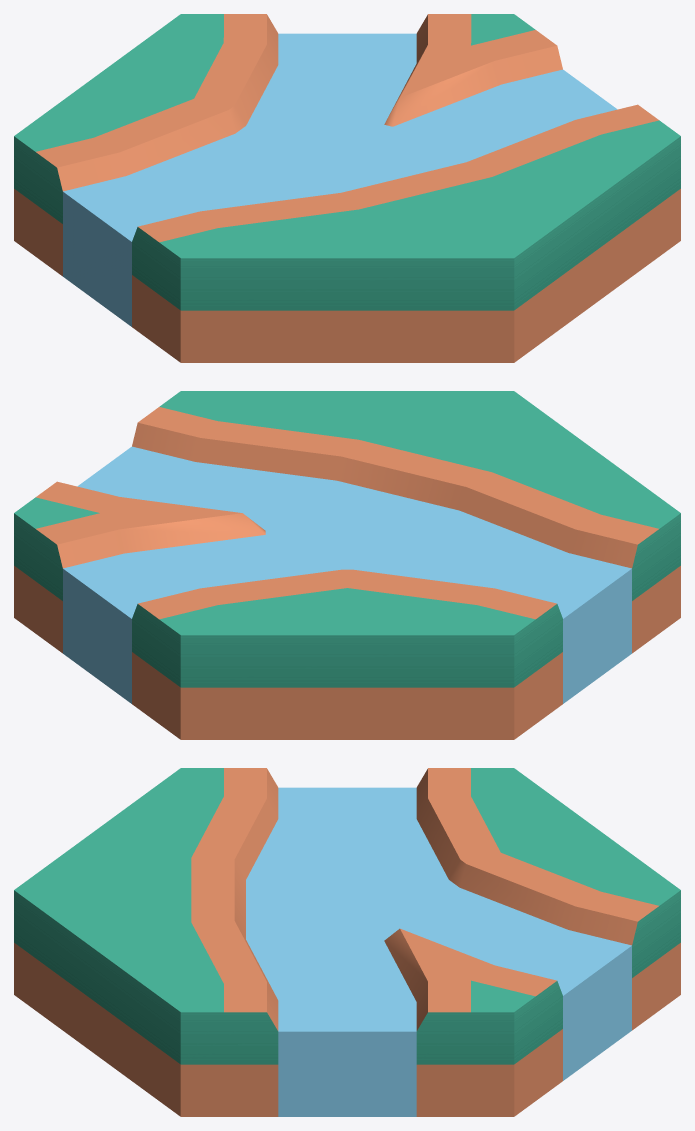
The model's file is river-intersectionB.glb.
3 views of the same model, one above another, from view 1: azimuth 30°, elevation 25°; view 2: azimuth 150°, elevation 25°; view 3: azimuth 270°, elevation 25° (orthographic).
Parts seen in each view (by area): view 1: river-intersectionB; view 2: river-intersectionB; view 3: river-intersectionB.
Part boxes in pixels (<box>): river-intersectionB: <box>14,14,680,362</box>; river-intersectionB: <box>14,391,680,739</box>; river-intersectionB: <box>14,768,680,1116</box>.
Size of the model in its own units: 1 by 0.2 by 1.15.
Materials: 1 (1 with a texture image).
